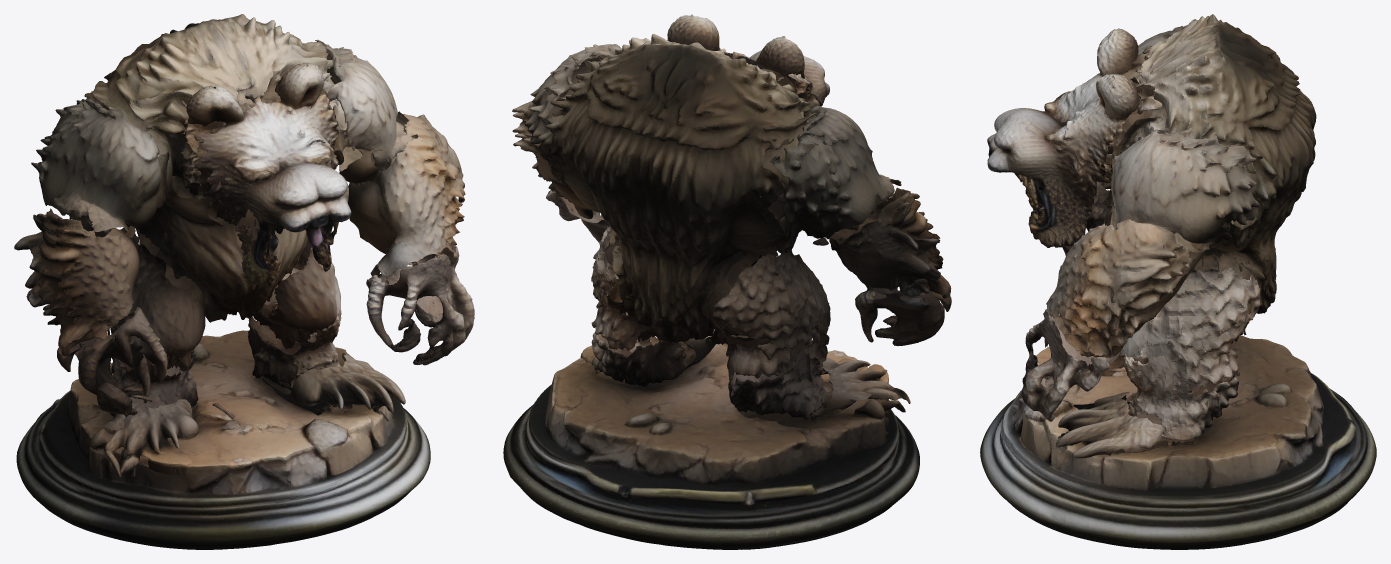
3 renders of one model, left to right at view 1: azimuth 30°, elevation 25°; view 2: azimuth 150°, elevation 25°; view 3: azimuth 270°, elevation 25°, orthographic.
Parts seen in each view (by area): view 1: 0, 1, 2, 5, 7, 8, 6, 9, 15, 4, 13, 10 (+4 smaller); view 2: 0, 1, 13, 7, 8, 14, 9, 2, 11, 10, 15, 4 (+2 smaller); view 3: 0, 1, 2, 5, 4, 10, 11, 6, 12, 9.
Boxes of the visible parts, box(x1,y1,x2,y2) form: 0: box(16, 330, 430, 549); 1: box(84, 14, 347, 322); 2: box(181, 63, 351, 271); 5: box(339, 111, 465, 275); 7: box(31, 98, 161, 237); 8: box(14, 208, 139, 356); 6: box(366, 245, 474, 365); 9: box(43, 304, 167, 416); 15: box(105, 399, 239, 476); 4: box(315, 39, 412, 170); 13: box(110, 226, 205, 371); 10: box(252, 239, 340, 349); 0: box(503, 330, 919, 549); 1: box(538, 34, 819, 342); 13: box(711, 241, 830, 380); 7: box(770, 105, 901, 239); 8: box(813, 187, 951, 298); 14: box(727, 334, 829, 419); 9: box(855, 278, 951, 345); 2: box(667, 14, 829, 106); 11: box(591, 312, 686, 386); 10: box(591, 225, 654, 350); 15: box(811, 357, 910, 420); 4: box(524, 44, 621, 149); 0: box(980, 335, 1376, 549); 1: box(1097, 14, 1316, 325); 2: box(987, 28, 1162, 247); 5: box(1046, 206, 1213, 358); 4: box(1111, 127, 1260, 243); 10: box(1119, 267, 1260, 392); 11: box(1122, 354, 1238, 440); 6: box(1022, 309, 1120, 421); 12: box(1055, 392, 1163, 458); 9: box(1062, 181, 1112, 255).
Bounding box in the file's own units: 0.9618 × 0.9466 × 0.7836.
16 materials, 16 textured.
